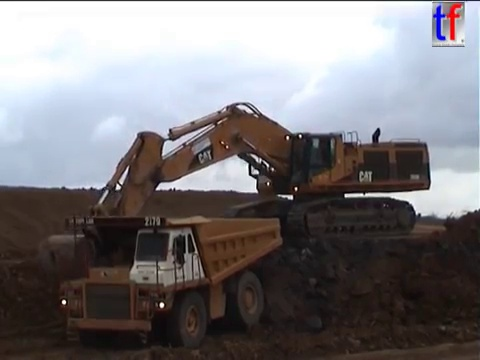excavator: (34, 99, 434, 292)
truck: (48, 212, 285, 348)
